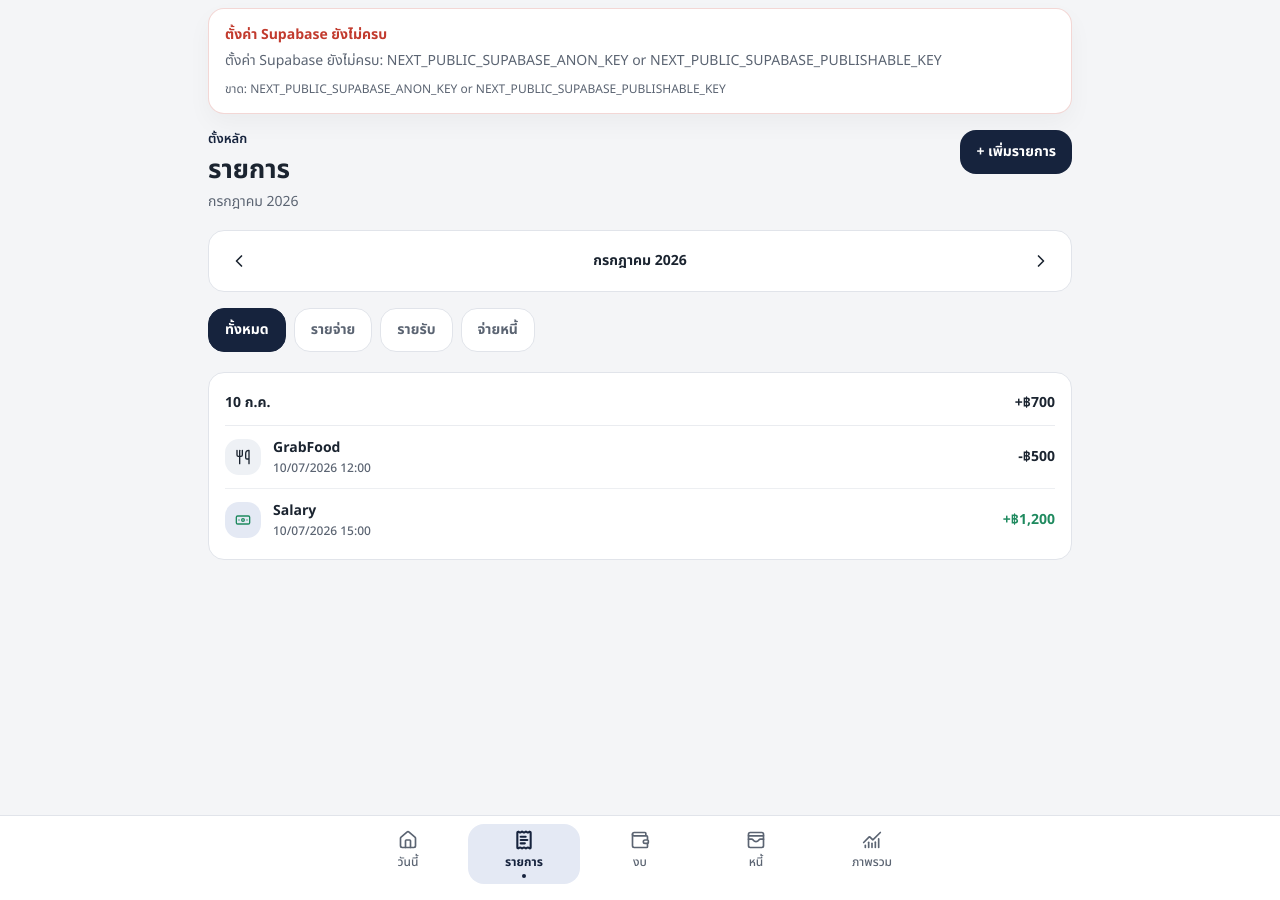
TransactionsClient filter transition state › opens the action sheet when a transaction row is clicked
Expected: the text "จัดการรายการ" is not shown
Step 1. Click the button "GrabFood 10/07/2026 12:00 -฿500" → (243, 457), box [225,426,1055,489]
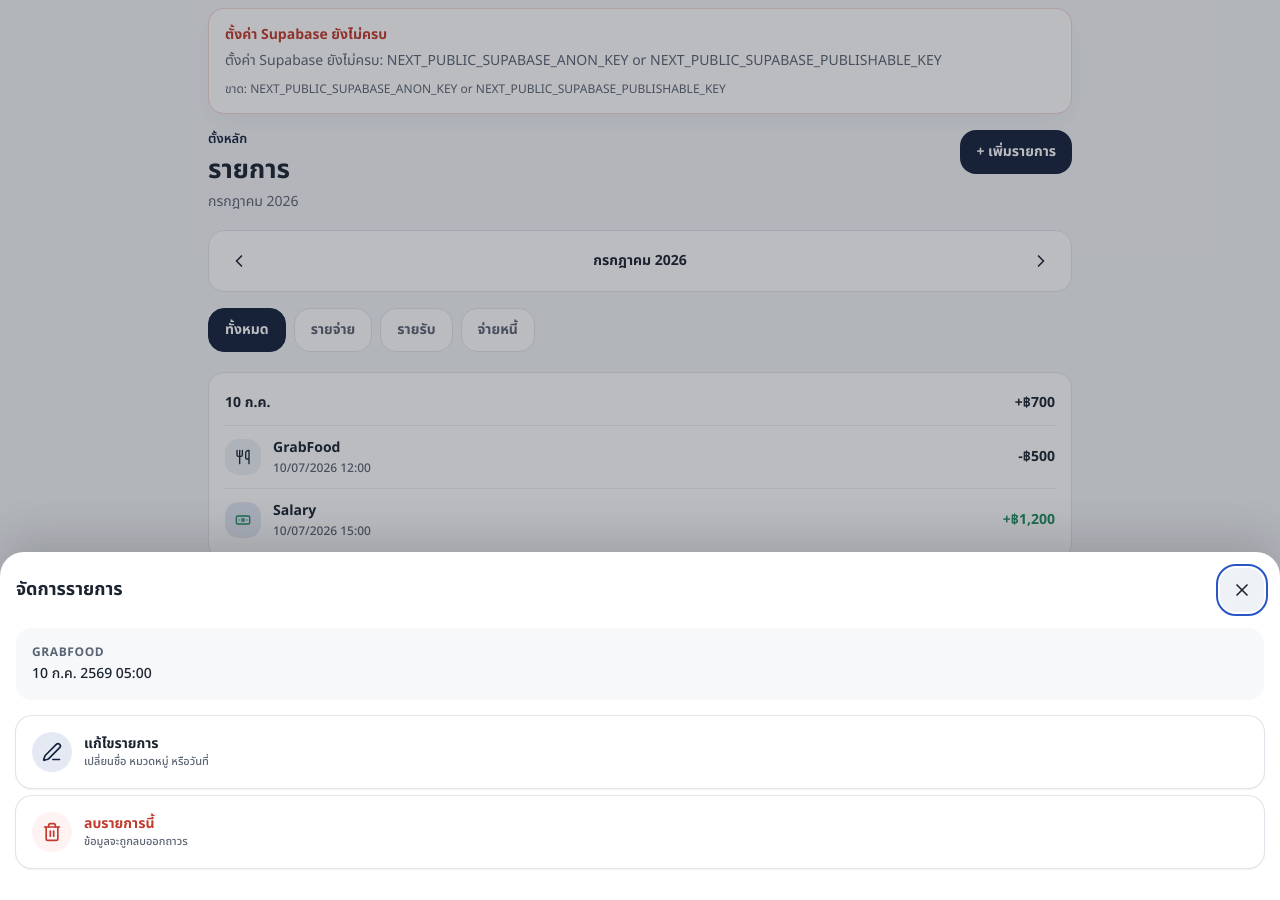
Result: the text "จัดการรายการ" is shown at [16,576,123,604]
Result: the text "แก้ไขรายการ" is shown at [84,733,159,754]
Result: the text "ลบรายการนี้" is shown at [84,813,154,834]
